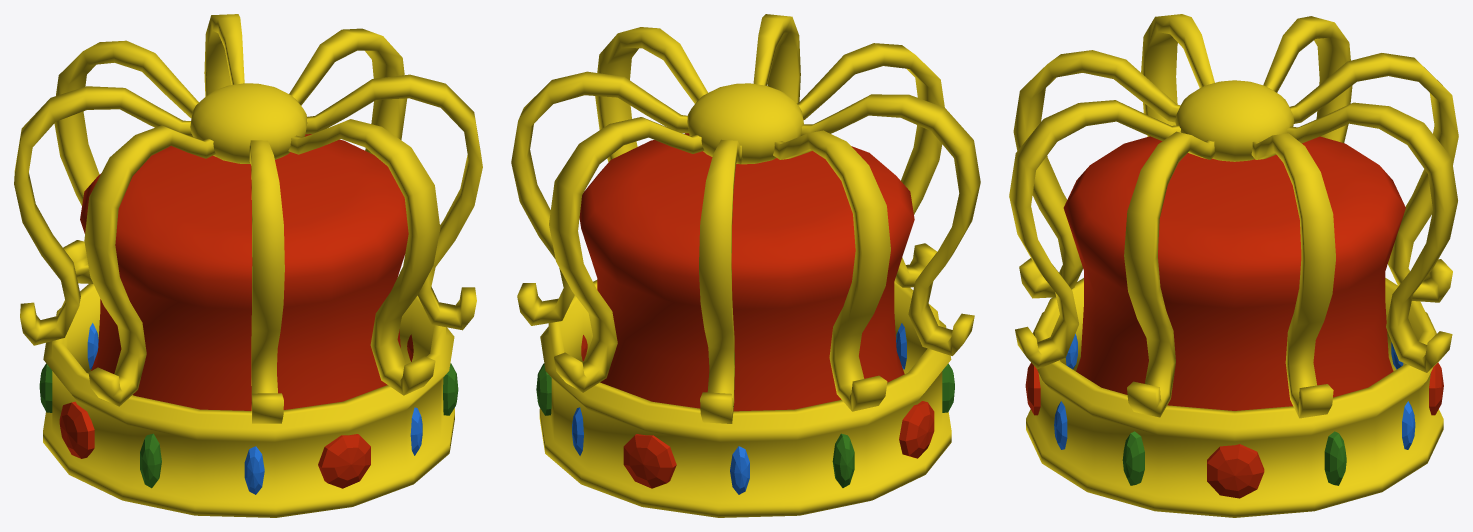
The model's file is crown.fbx.
3 renders of one model, left to right at view 1: azimuth 30°, elevation 25°; view 2: azimuth 150°, elevation 25°; view 3: azimuth 270°, elevation 25°, orthographic.
Visible parts, largest first — view 1: crown; view 2: crown; view 3: crown.
Boxes of the visible parts, x1=… form: crown: x1=14, y1=14, x2=482, y2=517; crown: x1=511, y1=14, x2=980, y2=517; crown: x1=1009, y1=14, x2=1458, y2=517.
Bounding box in the file's own units: 196 × 166 × 195.
